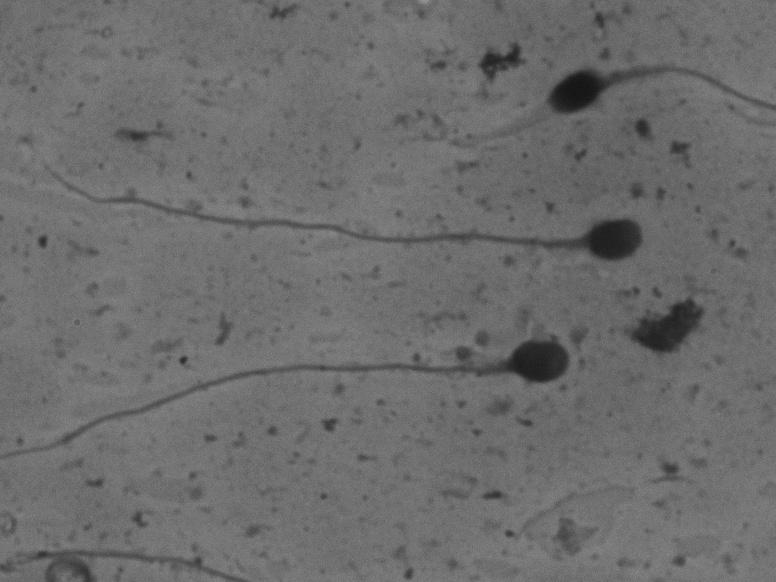Normal: (8, 321, 588, 474), (33, 138, 660, 271), (513, 41, 764, 136)
